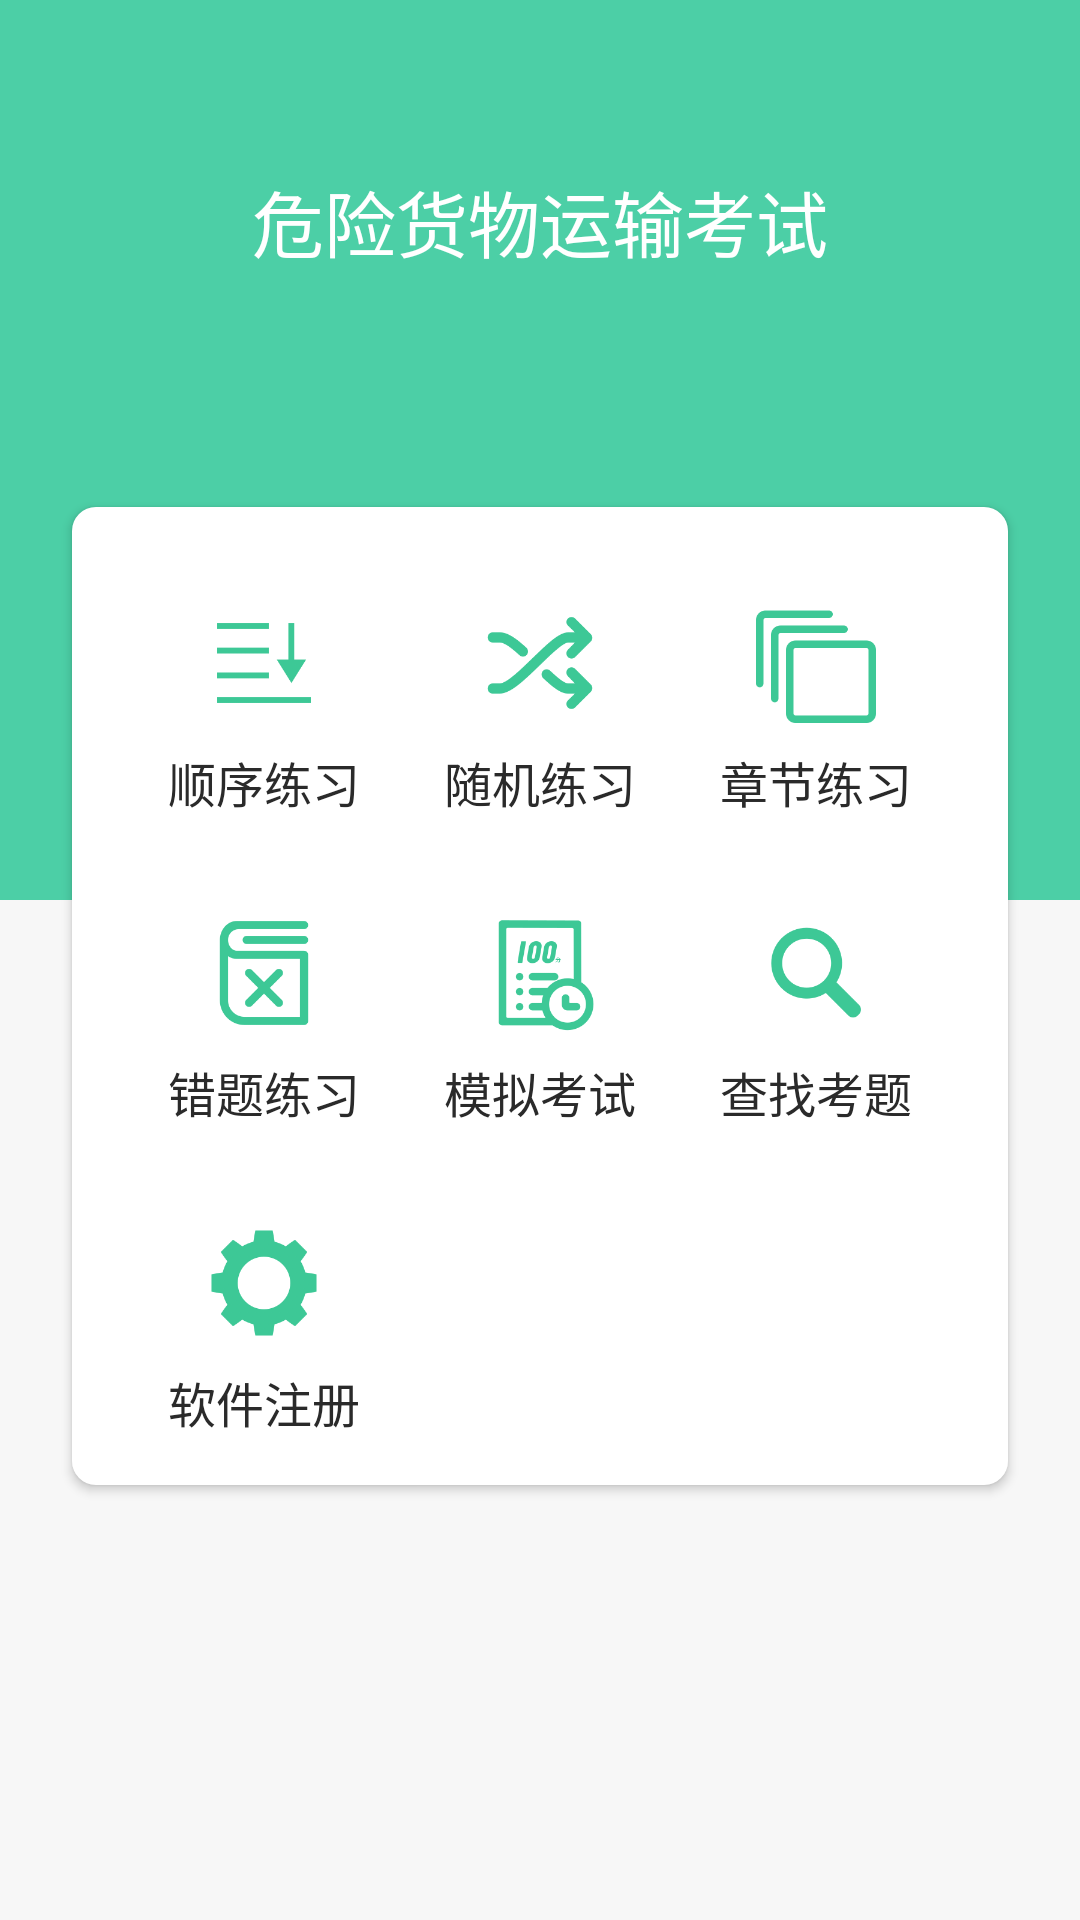

Icon bounding boxes for this 1080 × 1920 phone screenshot, format (x1, y1, x2, y2):
cuotiku: (219, 921, 309, 1025)
kaoshijilu: (498, 920, 594, 1030)
liebiaoshunxu: (217, 623, 311, 703)
setting: (211, 1230, 317, 1336)
shitifenzu: (756, 610, 876, 723)
sousuo: (771, 927, 861, 1018)
suijibofang: (487, 617, 593, 709)
